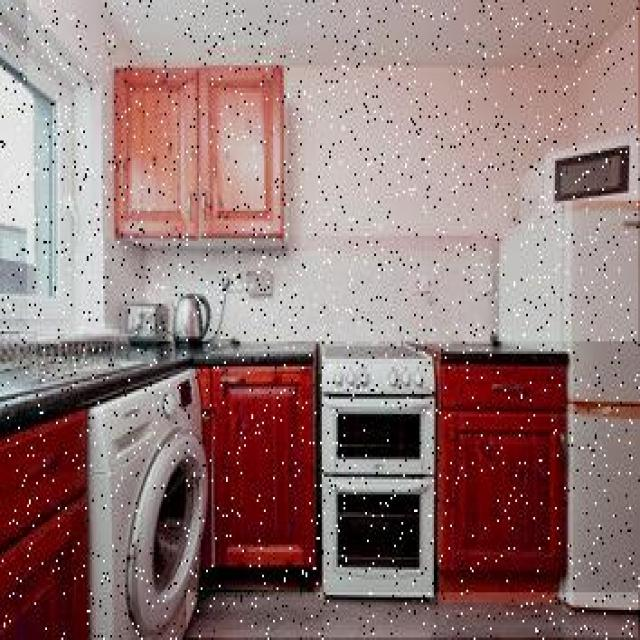Wall: (29, 0, 638, 341), (102, 1, 638, 65), (186, 594, 640, 640)
